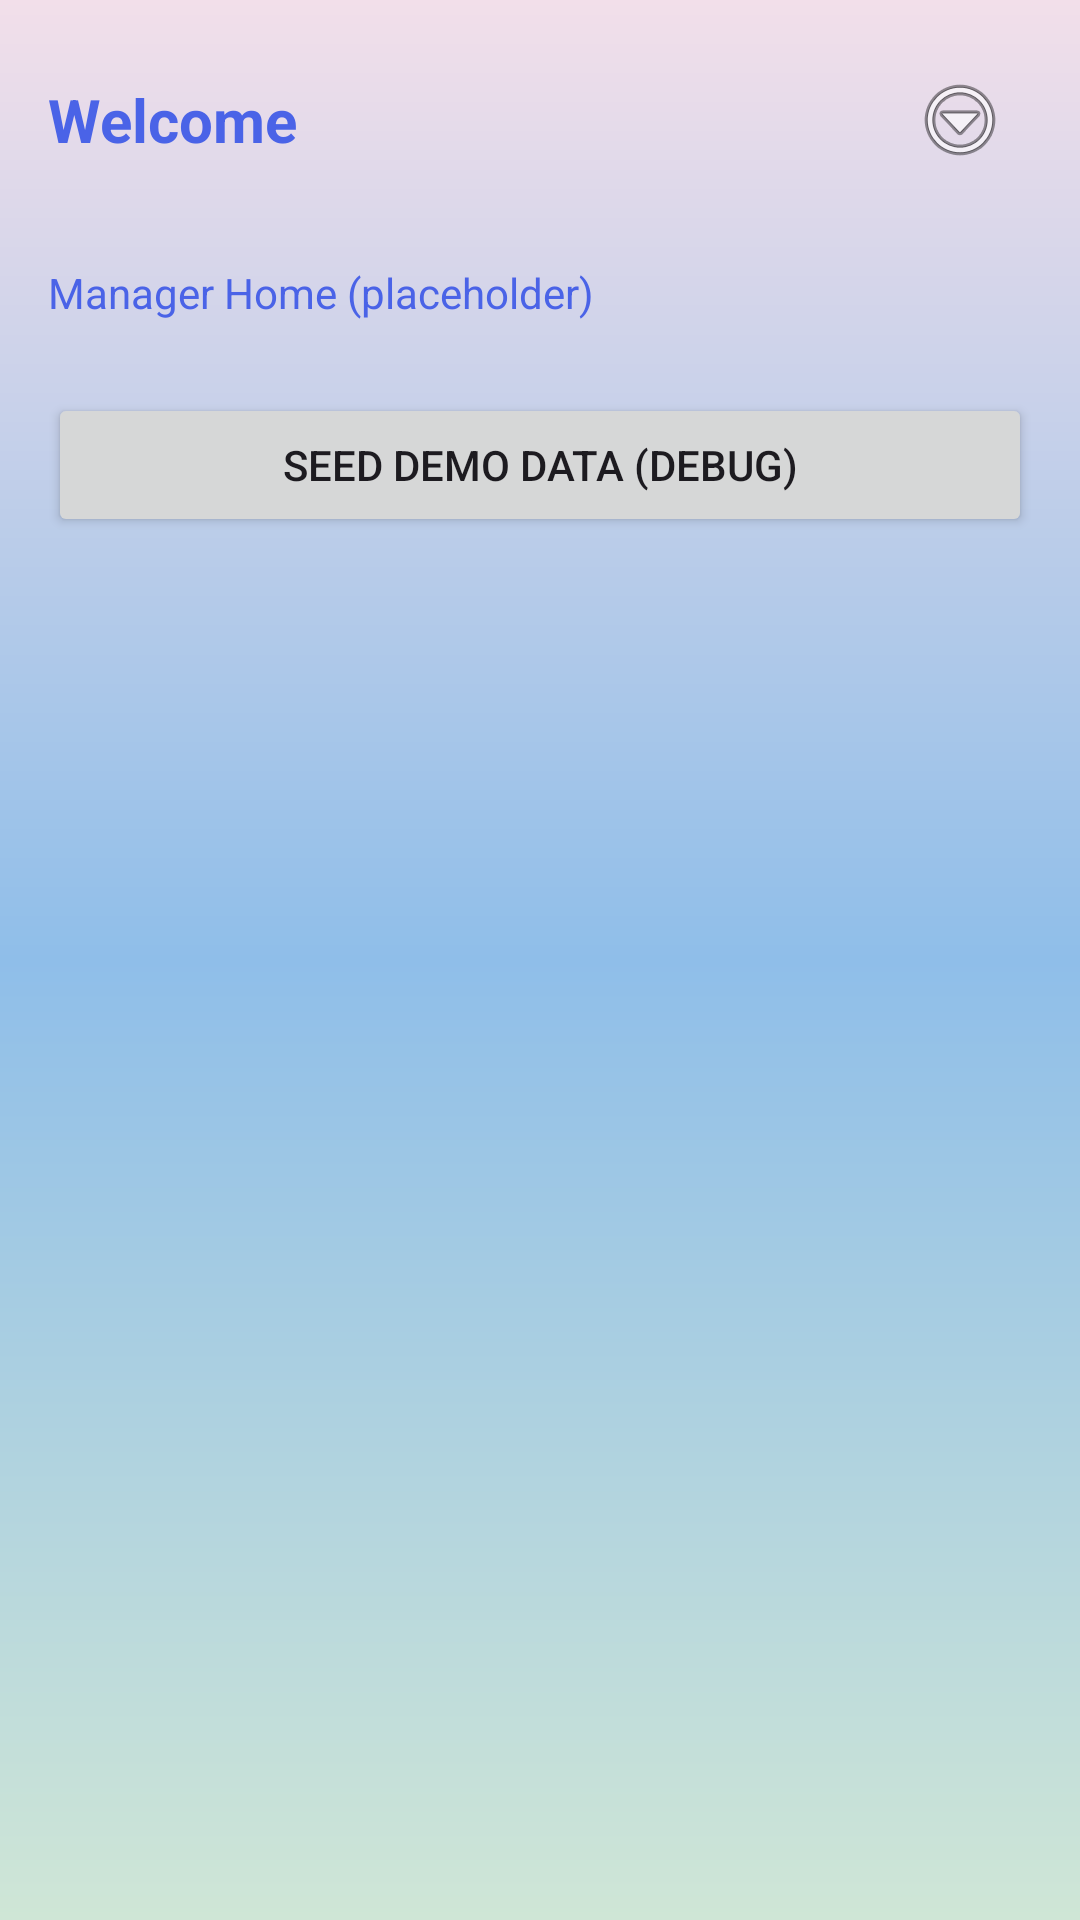

Named icons in this screenshot (1080w x 1920h) and their centers, (x,y):
Menu: (960,120)
